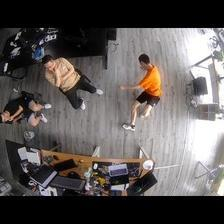fall: (119, 53, 162, 132)
